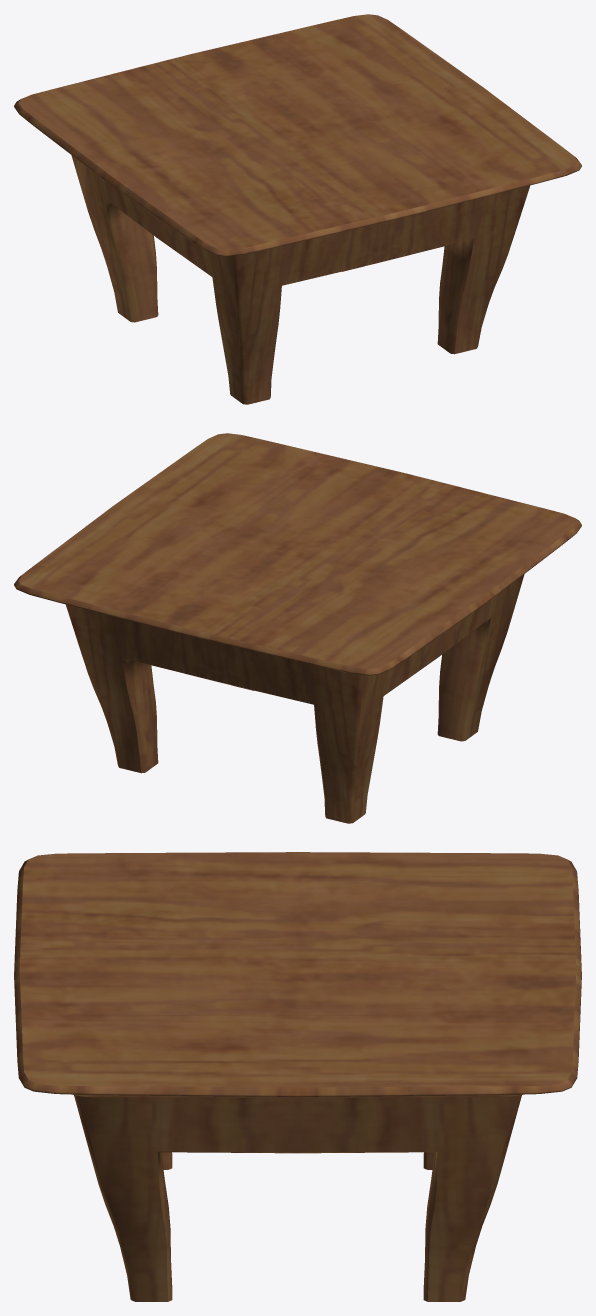
The model's file is CI_051_table.glb.
3 renders of one model, top to bottom at view 1: azimuth 30°, elevation 25°; view 2: azimuth 150°, elevation 25°; view 3: azimuth 270°, elevation 25°, orthographic. The views are drawn at different scales.
Visible parts, largest first — view 1: tabletop, legs; view 2: tabletop, legs; view 3: tabletop, legs.
Part boxes in pixels (<box>): tabletop: <box>14,14,581,256</box>; legs: <box>71,155,530,404</box>; tabletop: <box>14,433,581,675</box>; legs: <box>65,574,524,823</box>; tabletop: <box>14,852,581,1097</box>; legs: <box>74,1095,521,1301</box>.
Size of the model in its own units: 2.25 by 1.13 by 2.25.
Materials: 1 (1 with a texture image).
